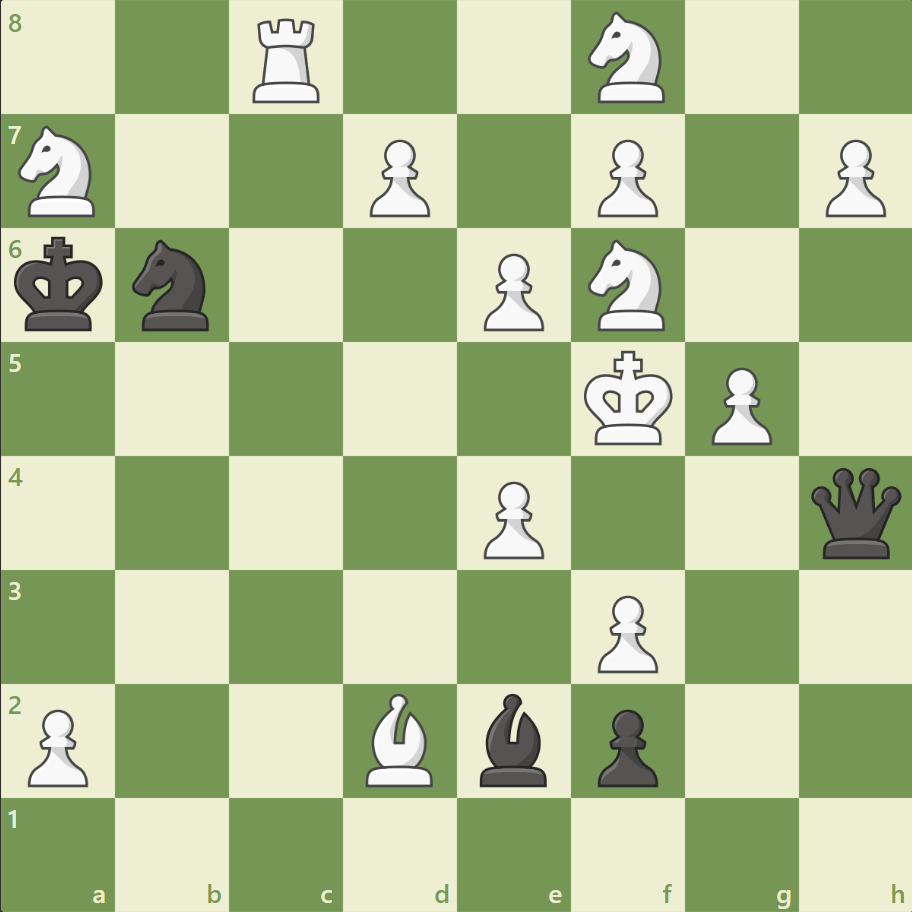B: (358, 687, 442, 790)
K: (579, 344, 679, 452)
N: (579, 7, 676, 110), (579, 234, 676, 337), (11, 121, 108, 223)
P: (474, 246, 549, 337), (701, 359, 776, 450), (474, 473, 549, 564), (20, 700, 95, 791), (361, 132, 435, 223), (588, 132, 662, 223), (815, 132, 889, 223), (588, 586, 662, 677)
R: (246, 12, 329, 109)
b: (471, 687, 555, 790)
k: (11, 231, 111, 339)
n: (124, 234, 222, 337)
p: (588, 700, 662, 791)
q: (805, 463, 904, 562)
